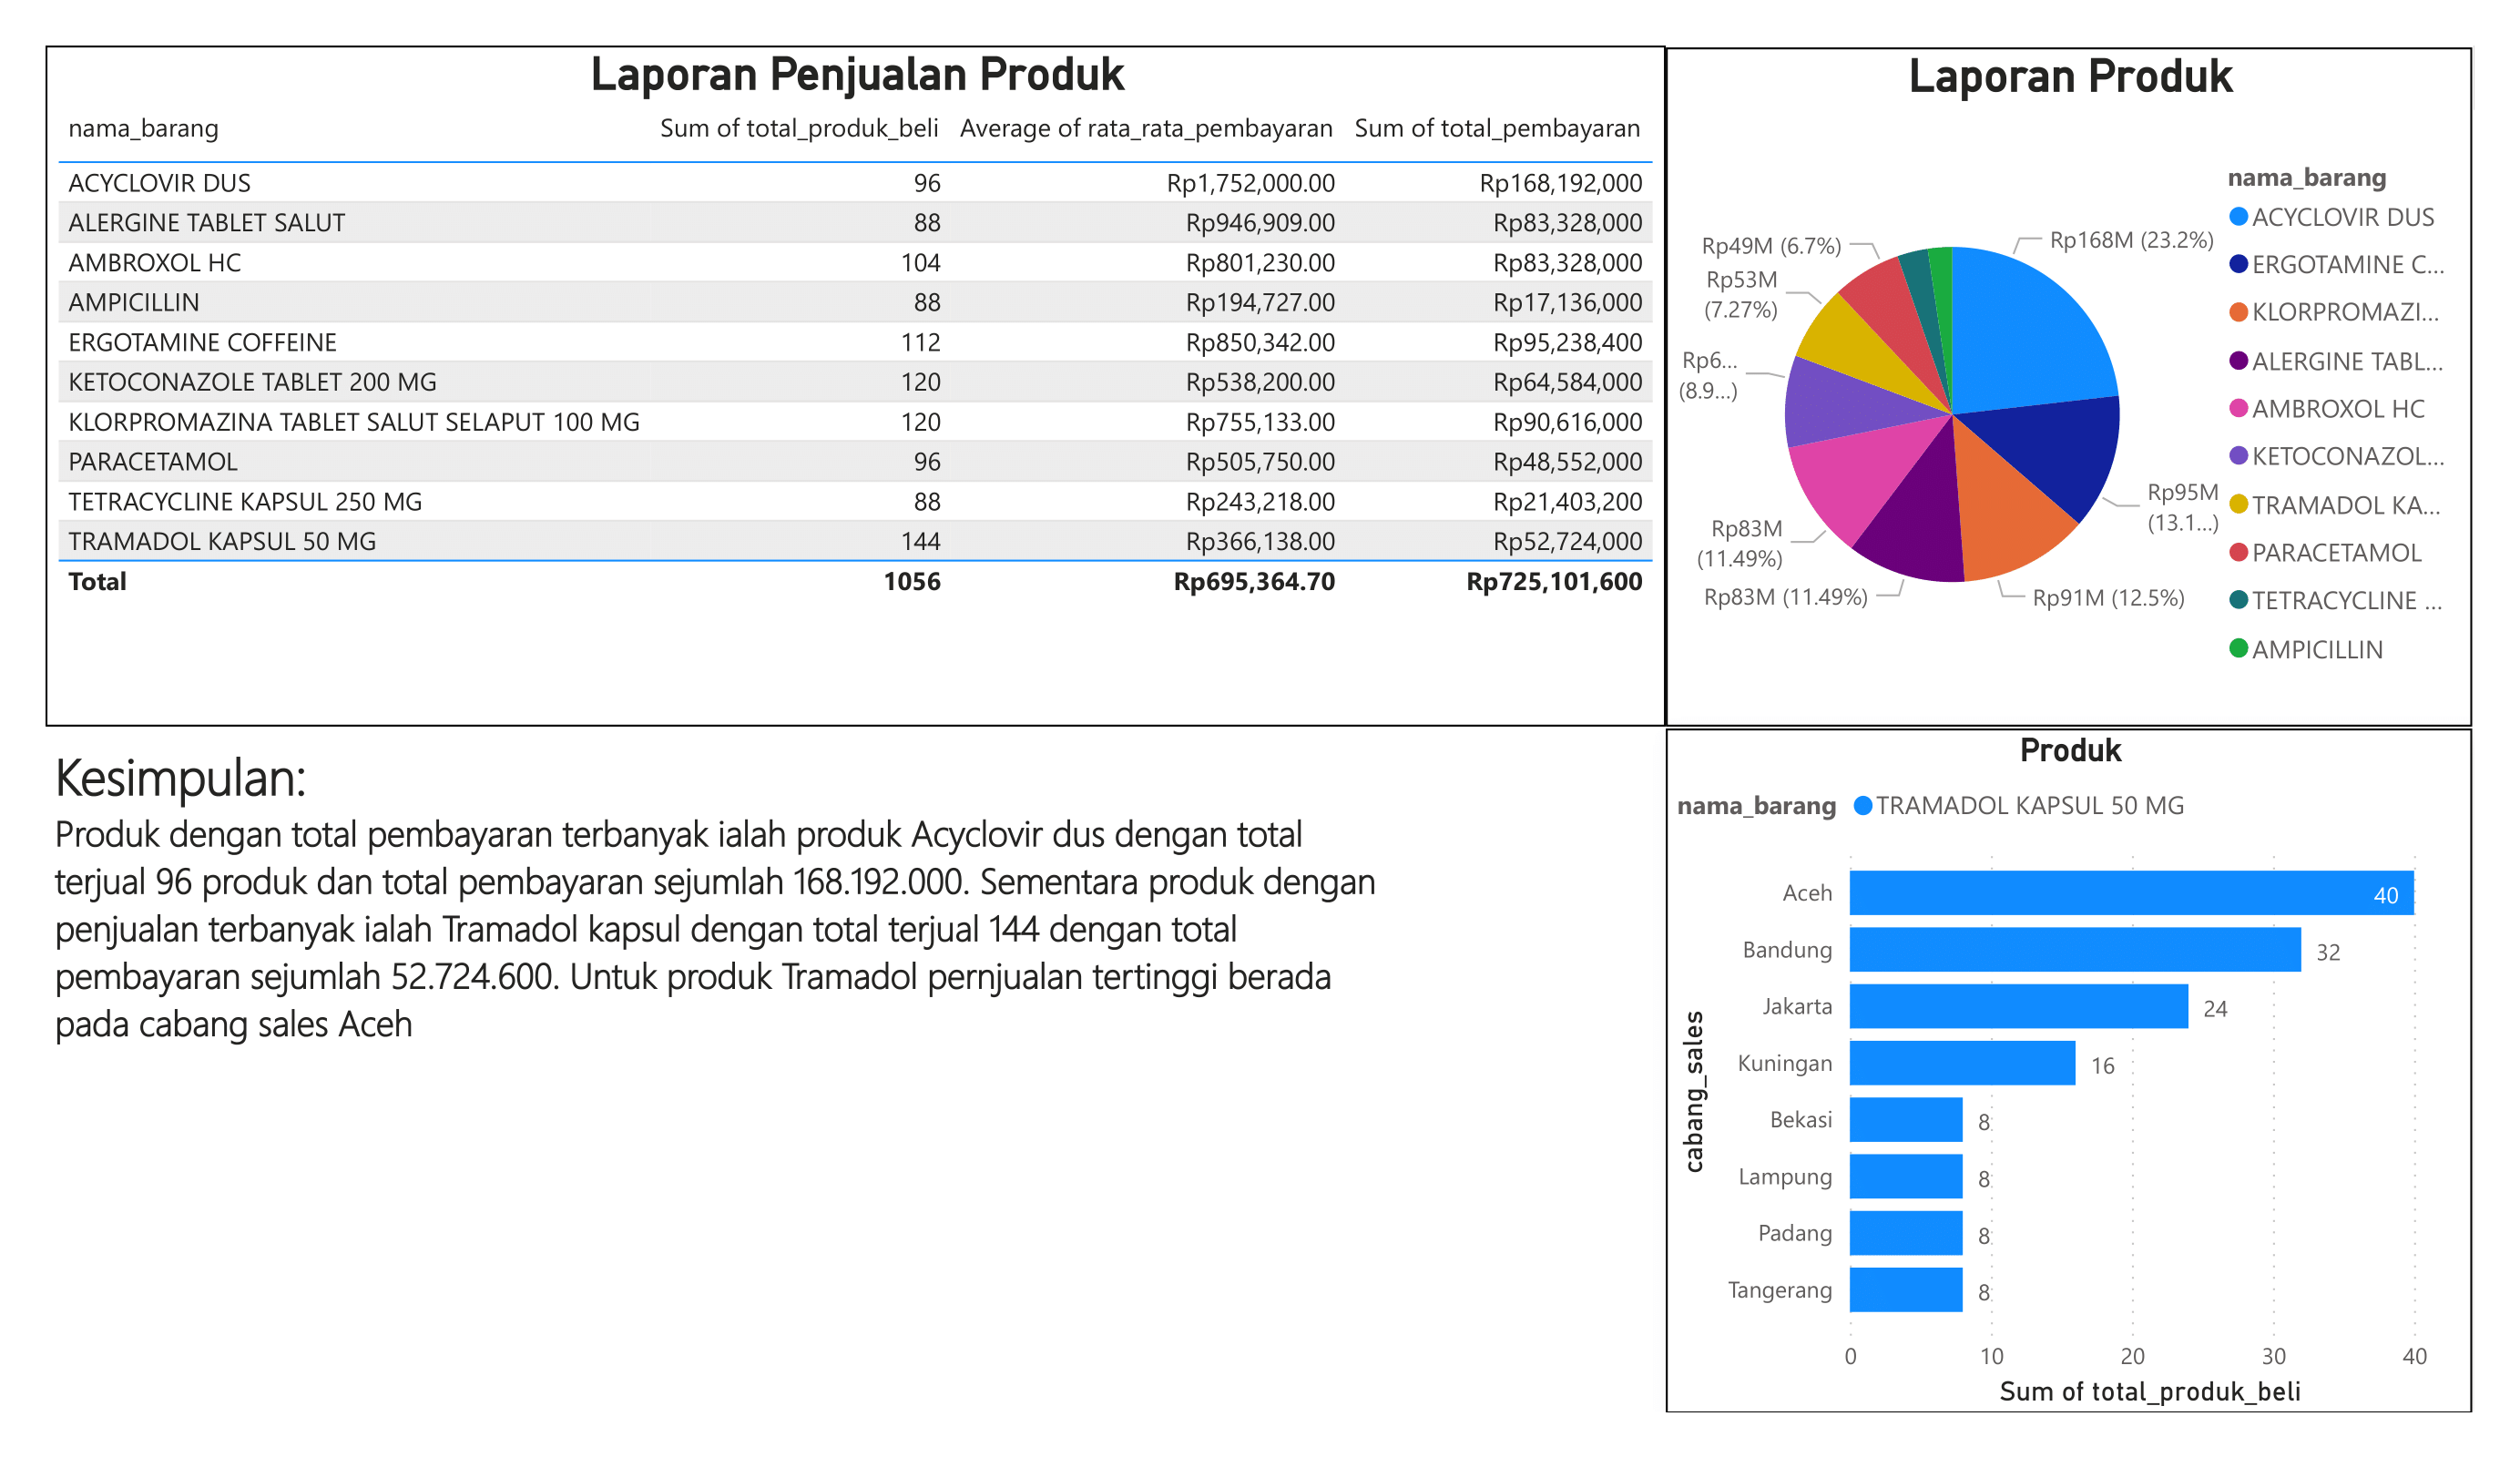

The page's visual inventory and layout, read from the dashboard file:
{"tool":"powerbi","page":{"name":"Analisa Produk","canvas":[1280,720],"ordinal":1},"visuals":[{"type":"textbox","box":[0,360.8,711.9,359.2],"z":0},{"type":"tableEx","title":"Laporan Penjualan Produk","fields":{"Values":["fk_produk.nama_barang","Sum(fk_produk.total_produk_beli)","Avg(fk_produk.rata_rata_pembayaran)","Sum(fk_produk.total_pembayaran)"]},"box":[0,0,854.3,359.2],"z":1000},{"type":"pieChart","title":"Laporan Produk","fields":{"Category":["fk_produk.nama_barang"],"Y":["Sum(fk_produk.total_pembayaran)"]},"box":[854.4,1.5,425,357.4],"z":2000},{"type":"clusteredBarChart","title":"Produk ","fields":{"Category":["fk_produk_favorit.cabang_sales"],"Y":["Sum(fk_produk_favorit.total_produk_beli)"],"Series":["fk_produk_favorit.nama_barang"]},"box":[854.4,360.3,425,360.3],"z":3000}]}

Visuals, with their boxes in screenshot pixels (x1, y1, x2, y2):
textbox: box=[46, 730, 1396, 1411]
"Laporan Penjualan Produk" tableEx: box=[46, 46, 1667, 727]
"Laporan Produk" pieChart: box=[1667, 48, 2474, 727]
"Produk " clusteredBarChart: box=[1667, 729, 2474, 1411]
